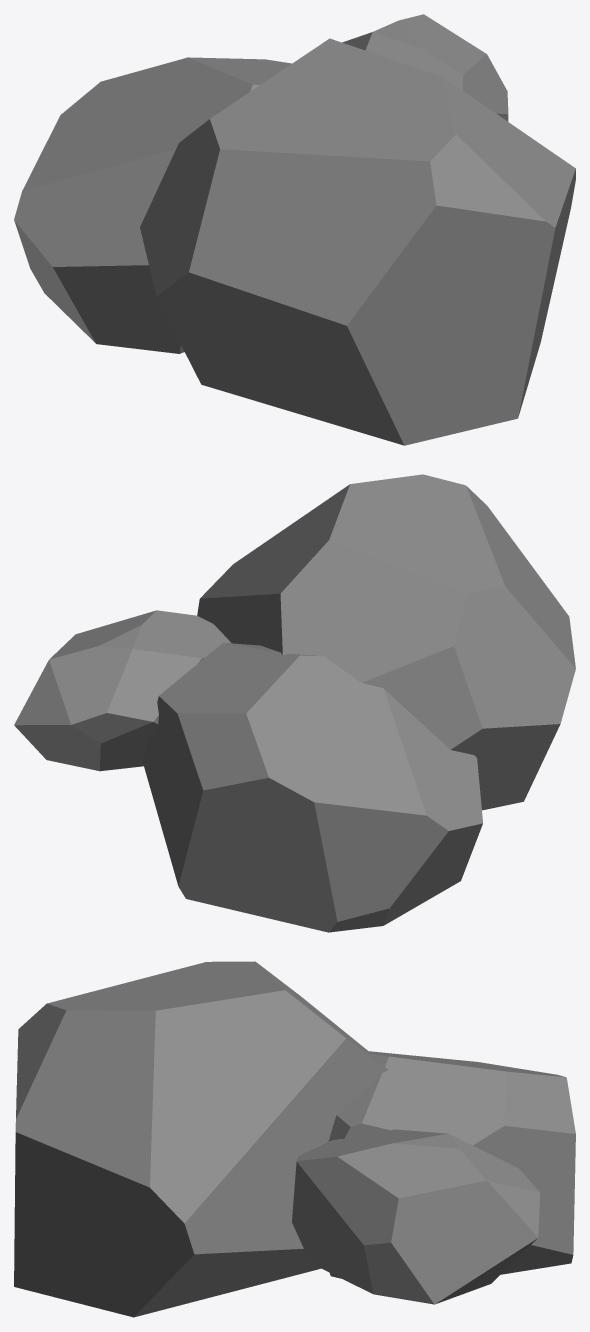
The model's file is Rock1.fbx.
3 renders of one model, top to bottom at view 1: azimuth 30°, elevation 25°; view 2: azimuth 150°, elevation 25°; view 3: azimuth 270°, elevation 25°, orthographic. The views are drawn at different scales.
Parts seen in each view (by area): view 1: Cube.009; view 2: Cube.009; view 3: Cube.009.
Boxes of the visible parts, x1,y1,x2,y2 form: Cube.009: (14,14,575,445); Cube.009: (14,474,575,932); Cube.009: (14,961,575,1317).
Bounding box in the file's own units: 3081 × 1844 × 3322.
